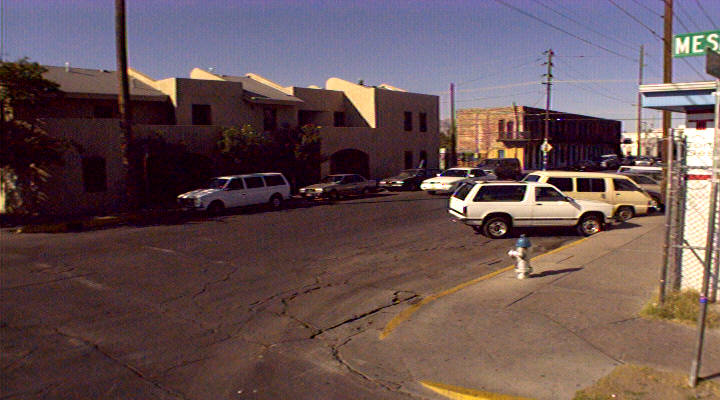Ramp: (331, 276, 611, 400)
